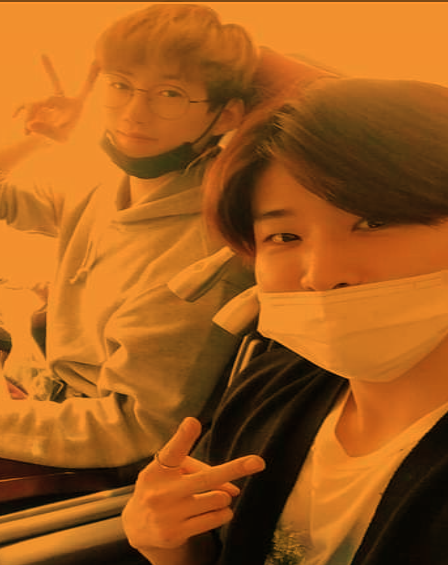mask_weared_incorrect: (227, 79, 448, 386), (86, 5, 254, 180)
